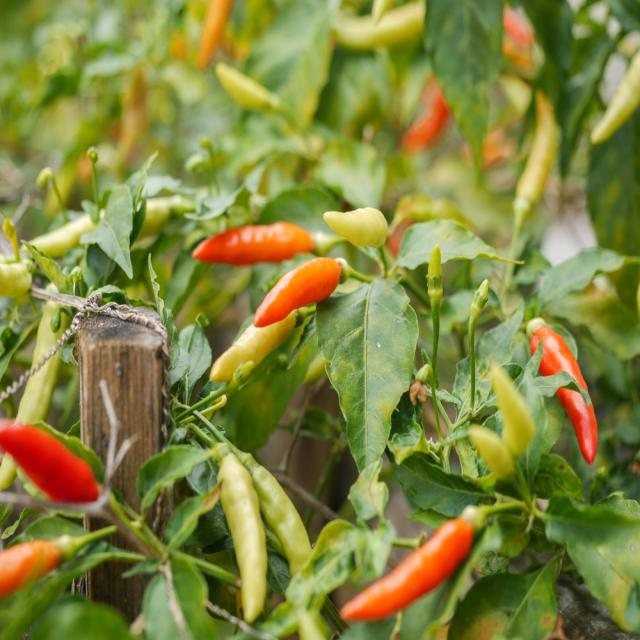Ripe: (341, 518, 474, 620), (531, 328, 603, 472), (0, 419, 100, 502), (254, 258, 341, 327), (192, 221, 315, 265), (0, 539, 60, 597)
Unripe: (218, 451, 268, 622), (245, 454, 312, 575), (210, 310, 298, 382), (17, 306, 69, 422), (491, 365, 535, 459), (324, 208, 388, 247), (469, 424, 514, 479), (0, 262, 31, 297), (428, 245, 441, 277)
